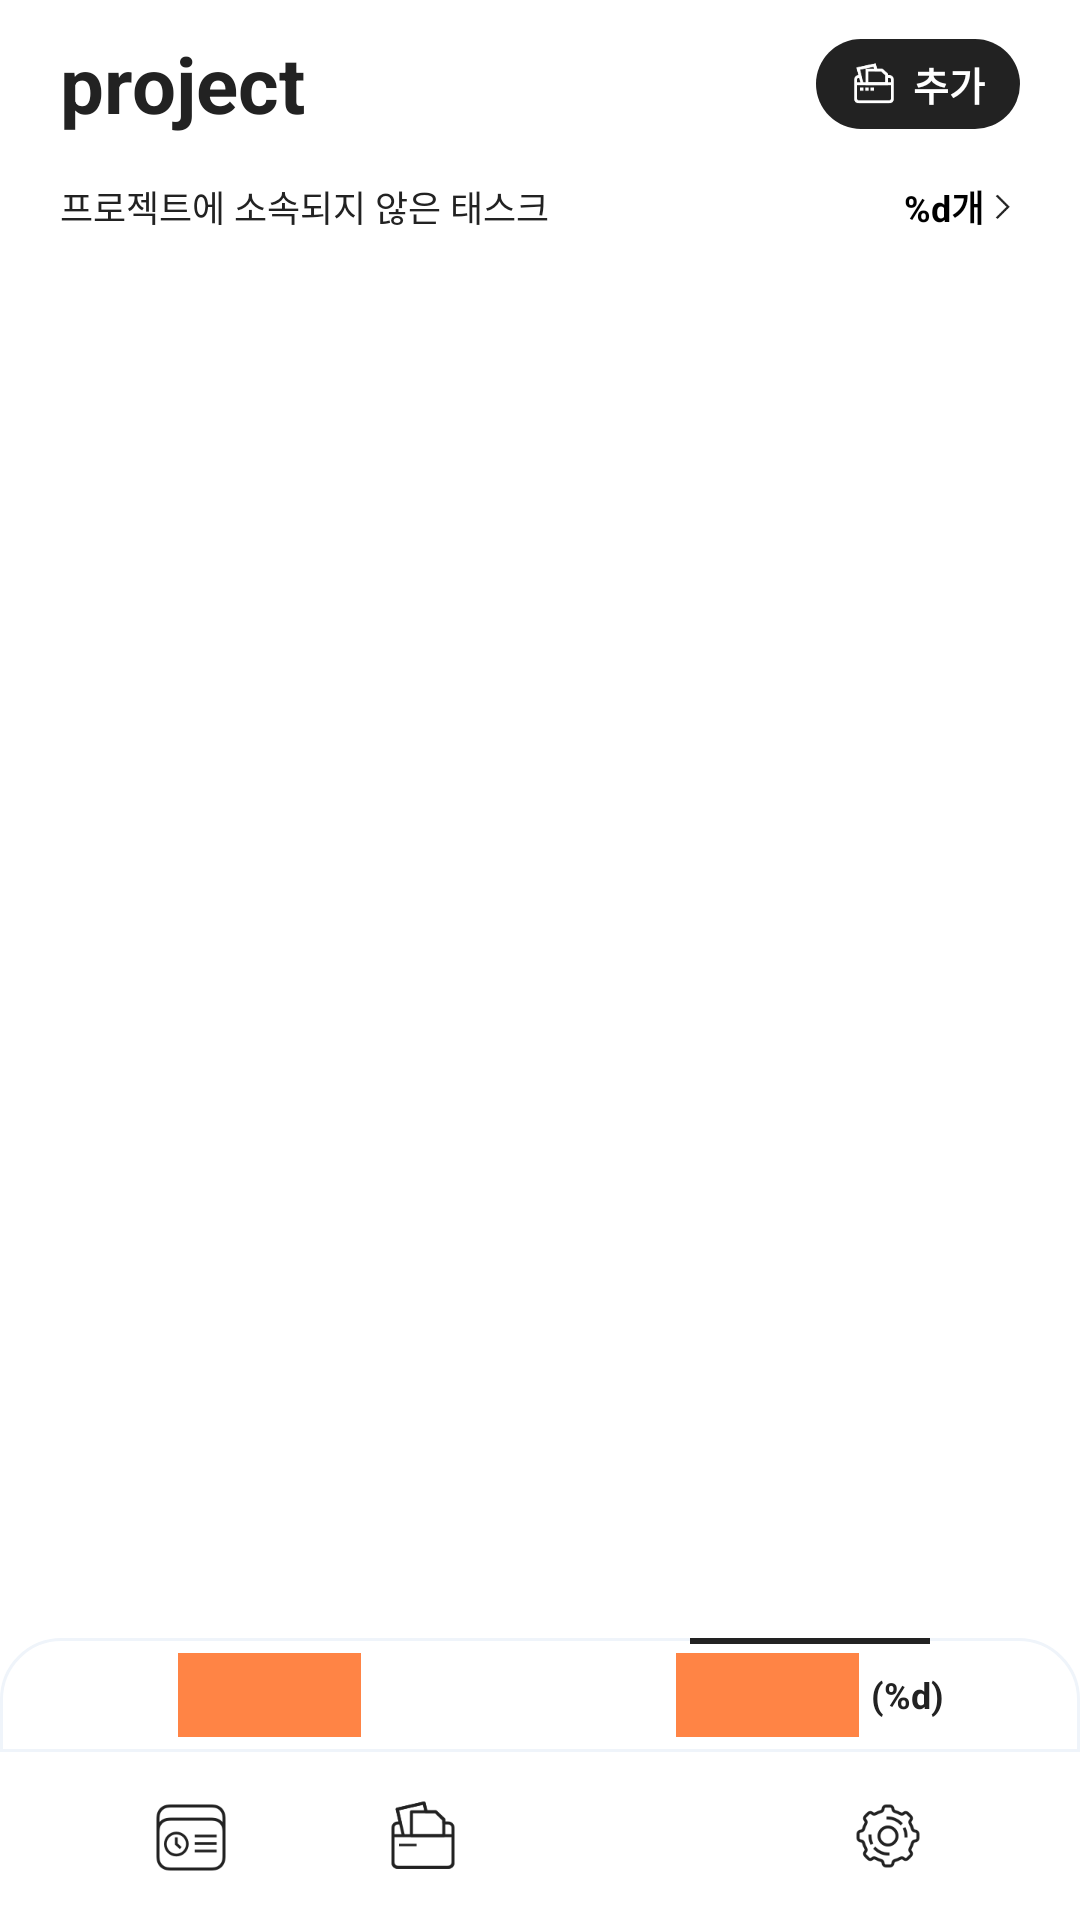

Icon click points for this 1080px x 1920px phone screenshot, format [x,y]:
bracket right: [1003,207]
project: [874,83]
project off: [423,1835]
